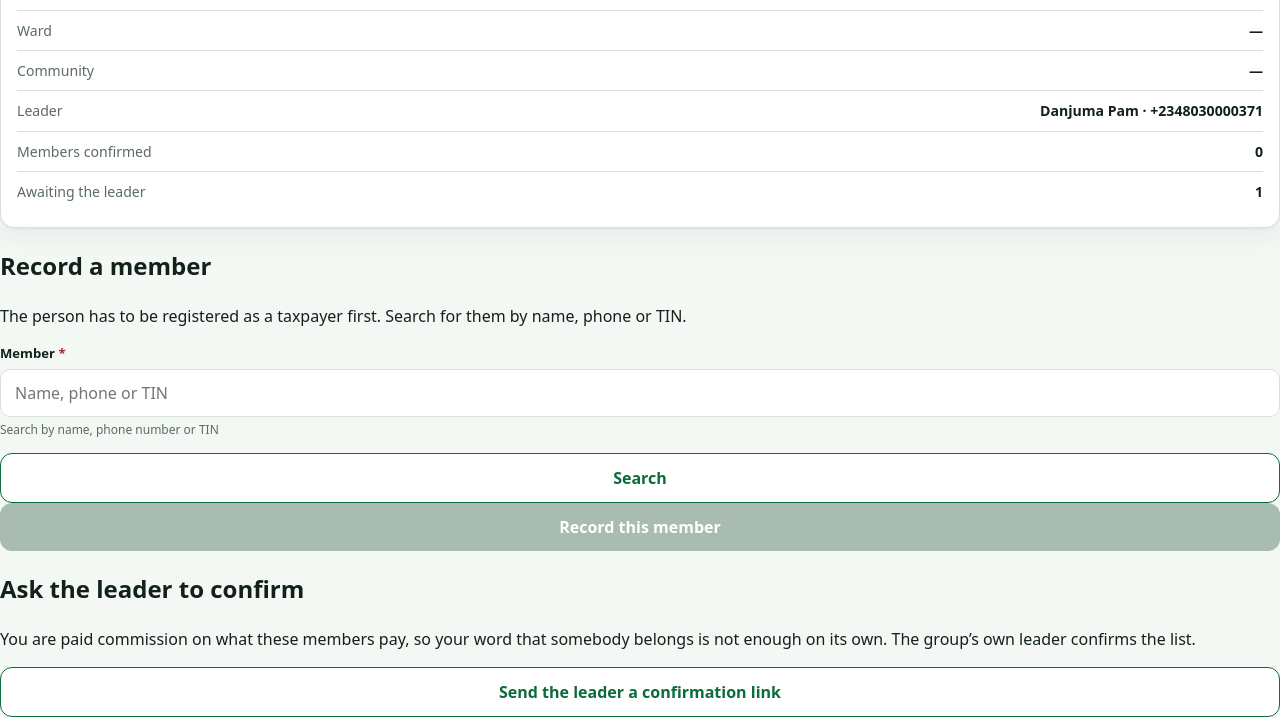
asking the leader to confirm the members › says the link went to the leader’s phone, and does not show it
(page scrolled)
Click the button "Send the leader a confirmation link" at (640,692), box [0,667,1279,716]
(page scrolled)
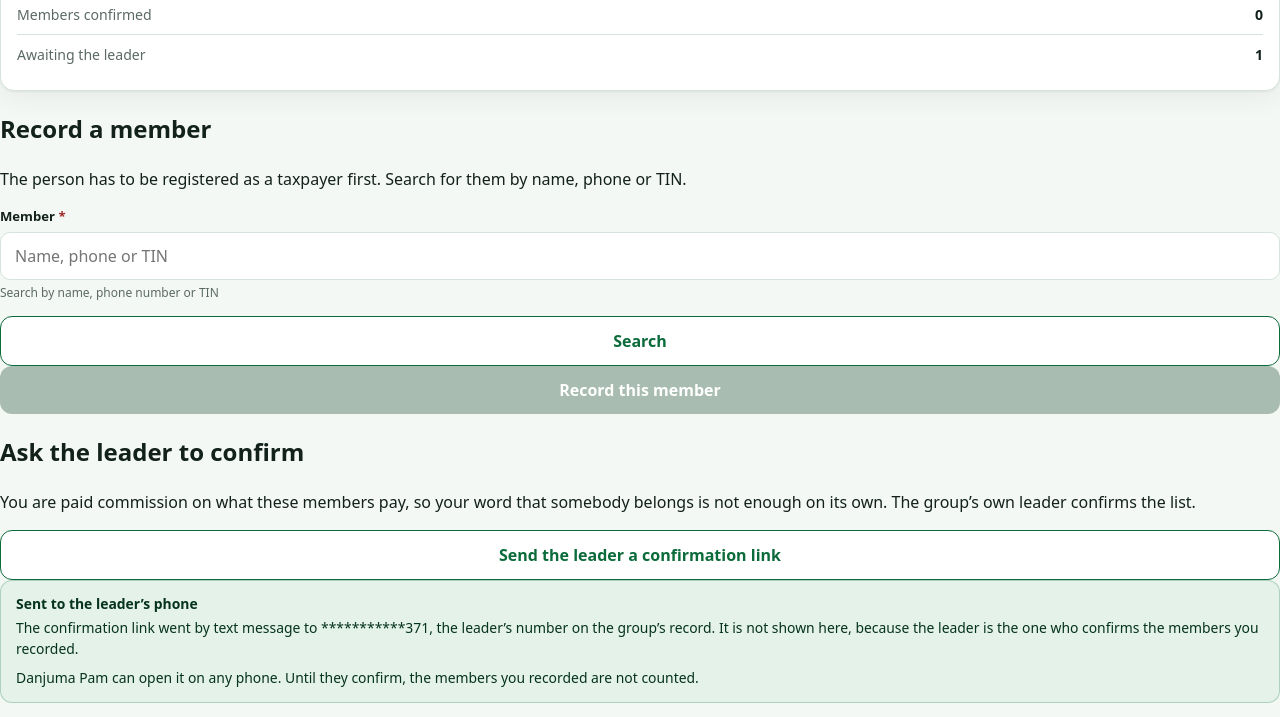
Check: the text "Sent to the leader’s phone" is shown, box [16,594,198,613]
